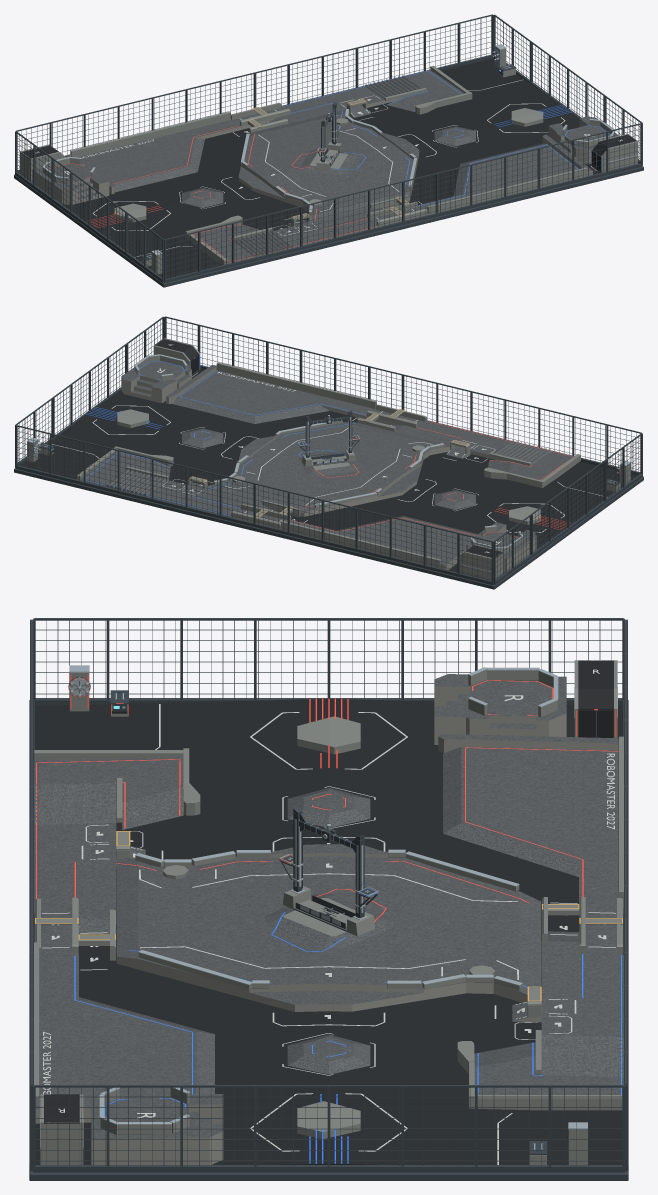
File: map-rmuc2027.glb
3 views of the same model, one above another, from view 1: azimuth 30°, elevation 25°; view 2: azimuth 150°, elevation 25°; view 3: azimuth 270°, elevation 25° (orthographic). The views are drawn at different scales.
Visible parts, largest first — view 1: ArenaChapter4_HighlandAsphalt, ArenaChapter4_GraphiteArmor, ArenaChapter4_FieldBlack, ArenaChapter4_ProtectiveMetal, ArenaChapter4_ConcreteSide, ArenaChapter4_WhiteFieldPaint, ArenaChapter4_BrushedTitanium, ArenaChapter4_BlueFieldPaint, ArenaChapter4_RedFieldPaint, ArenaChapter4_DartLidBlack.001; view 2: ArenaChapter4_HighlandAsphalt, ArenaChapter4_GraphiteArmor, ArenaChapter4_FieldBlack, ArenaChapter4_ProtectiveMetal, ArenaChapter4_ConcreteSide, ArenaChapter4_WhiteFieldPaint, ArenaChapter4_BrushedTitanium, ArenaChapter4_BlueFieldPaint, ArenaChapter4_RedFieldPaint, ArenaChapter4_DartLidBlack.001; view 3: ArenaChapter4_HighlandAsphalt, ArenaChapter4_FieldBlack, ArenaChapter4_GraphiteArmor, ArenaChapter4_ProtectiveMetal, ArenaChapter4_ConcreteSide, ArenaChapter4_BrushedTitanium, ArenaChapter4_WhiteFieldPaint, ArenaChapter4_DartLidBlack, ArenaChapter4_RedFieldPaint, ArenaChapter4_BlueFieldPaint, ArenaChapter4_DartLidBlack.001.
Part boxes in pixels (x1,y1,x2,y2): ArenaChapter4_HighlandAsphalt: (33, 70, 618, 262); ArenaChapter4_GraphiteArmor: (14, 14, 643, 287); ArenaChapter4_FieldBlack: (62, 58, 600, 278); ArenaChapter4_ProtectiveMetal: (20, 47, 637, 274); ArenaChapter4_ConcreteSide: (32, 96, 592, 263); ArenaChapter4_WhiteFieldPaint: (64, 79, 596, 257); ArenaChapter4_BrushedTitanium: (31, 44, 636, 257); ArenaChapter4_BlueFieldPaint: (282, 48, 610, 205); ArenaChapter4_RedFieldPaint: (49, 126, 376, 261); ArenaChapter4_DartLidBlack.001: (592, 134, 636, 170); ArenaChapter4_HighlandAsphalt: (80, 361, 573, 565); ArenaChapter4_GraphiteArmor: (14, 316, 643, 589); ArenaChapter4_FieldBlack: (20, 369, 637, 572); ArenaChapter4_ProtectiveMetal: (27, 338, 630, 580); ArenaChapter4_ConcreteSide: (80, 367, 536, 572); ArenaChapter4_WhiteFieldPaint: (52, 368, 607, 544); ArenaChapter4_BrushedTitanium: (26, 354, 631, 572); ArenaChapter4_BlueFieldPaint: (33, 355, 365, 515); ArenaChapter4_RedFieldPaint: (292, 421, 619, 541); ArenaChapter4_DartLidBlack.001: (155, 339, 199, 373); ArenaChapter4_HighlandAsphalt: (34, 674, 623, 1139); ArenaChapter4_FieldBlack: (34, 699, 623, 1164); ArenaChapter4_GraphiteArmor: (29, 618, 628, 1180); ArenaChapter4_ProtectiveMetal: (34, 660, 623, 1164); ArenaChapter4_ConcreteSide: (34, 686, 623, 1164); ArenaChapter4_BrushedTitanium: (40, 665, 617, 1149); ArenaChapter4_WhiteFieldPaint: (42, 695, 615, 1164); ArenaChapter4_DartLidBlack: (578, 660, 613, 737); ArenaChapter4_RedFieldPaint: (36, 674, 618, 922); ArenaChapter4_BlueFieldPaint: (74, 882, 621, 1163); ArenaChapter4_DartLidBlack.001: (44, 1094, 79, 1123).
Size of the model in its own units: 28.25 by 3.52 by 15.25.
18 materials, 1 textured.
